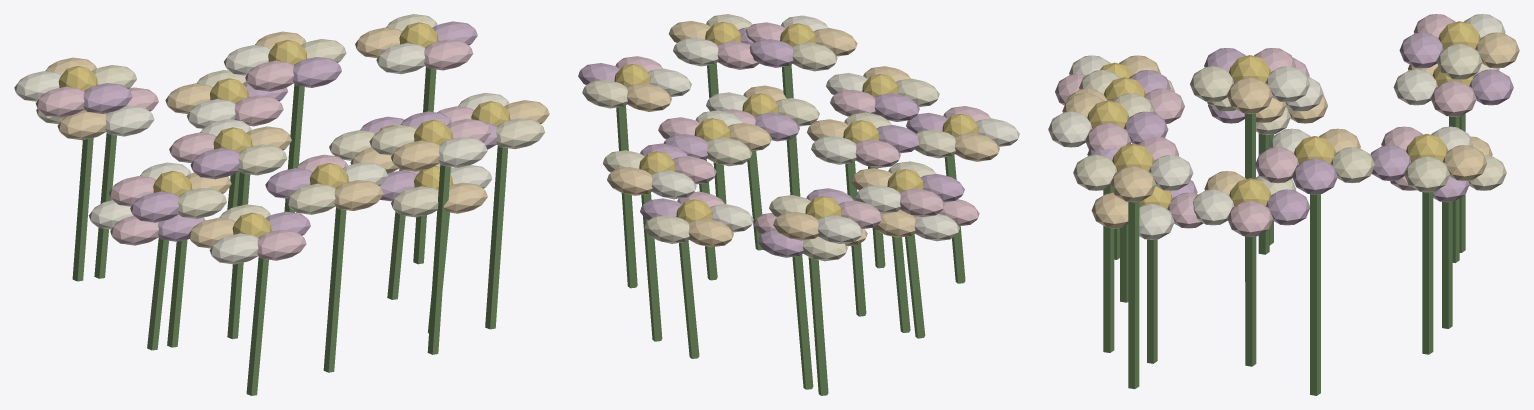
File: garden_flowers.glb
3 renders of one model, left to right at view 1: azimuth 30°, elevation 25°; view 2: azimuth 150°, elevation 25°; view 3: azimuth 270°, elevation 25°, orthographic. The views are drawn at different scales.
Visible parts, largest first — view 1: garden_flowers_21, garden_flowers_70, garden_flowers_63, garden_flowers_77, garden_flowers_84, garden_flowers_91, garden_flowers_42, garden_flowers_0, garden_flowers_23, garden_flowers_65, garden_flowers_79, garden_flowers_2 (+69 smaller); view 2: garden_flowers_14, garden_flowers_77, garden_flowers_91, garden_flowers_7, garden_flowers_49, garden_flowers_42, garden_flowers_0, garden_flowers_75, garden_flowers_5, garden_flowers_12, garden_flowers_54, garden_flowers_19 (+76 smaller); view 3: garden_flowers_70, garden_flowers_14, garden_flowers_7, garden_flowers_21, garden_flowers_56, garden_flowers_49, garden_flowers_28, garden_flowers_15, garden_flowers_1, garden_flowers_71, garden_flowers_8, garden_flowers_92 (+60 smaller).
Part boxes in pixels (x1,y1,x2,y2): garden_flowers_21: [427, 164, 450, 354]; garden_flowers_70: [485, 145, 507, 329]; garden_flowers_63: [323, 207, 346, 372]; garden_flowers_77: [72, 138, 93, 281]; garden_flowers_84: [246, 257, 268, 395]; garden_flowers_91: [94, 133, 116, 278]; garden_flowers_42: [147, 237, 168, 350]; garden_flowers_0: [227, 172, 250, 339]; garden_flowers_23: [438, 136, 487, 167]; garden_flowers_65: [334, 180, 383, 210]; garden_flowers_79: [83, 83, 132, 113]; garden_flowers_2: [238, 144, 287, 175]; garden_flowers_14: [616, 105, 637, 288]; garden_flowers_77: [808, 257, 828, 395]; garden_flowers_91: [792, 254, 813, 389]; garden_flowers_7: [641, 192, 662, 341]; garden_flowers_49: [679, 240, 699, 358]; garden_flowers_42: [905, 234, 925, 338]; garden_flowers_0: [845, 161, 866, 316]; garden_flowers_75: [673, 37, 718, 66]; garden_flowers_5: [811, 136, 856, 164]; garden_flowers_12: [607, 167, 652, 195]; garden_flowers_54: [644, 215, 689, 243]; garden_flowers_19: [582, 79, 627, 108]; garden_flowers_70: [1128, 201, 1139, 388]; garden_flowers_14: [1310, 194, 1320, 395]; garden_flowers_7: [1422, 192, 1433, 354]; garden_flowers_21: [1103, 186, 1114, 352]; garden_flowers_56: [1245, 236, 1256, 366]; garden_flowers_49: [1442, 201, 1452, 328]; garden_flowers_28: [1147, 239, 1157, 363]; garden_flowers_15: [1292, 158, 1337, 194]; garden_flowers_1: [1227, 77, 1272, 113]; garden_flowers_71: [1110, 166, 1156, 202]; garden_flowers_8: [1404, 156, 1449, 192]; garden_flowers_92: [1431, 80, 1476, 116].
Size of the model in its own units: 1.38 by 0.7972 by 1.33.
